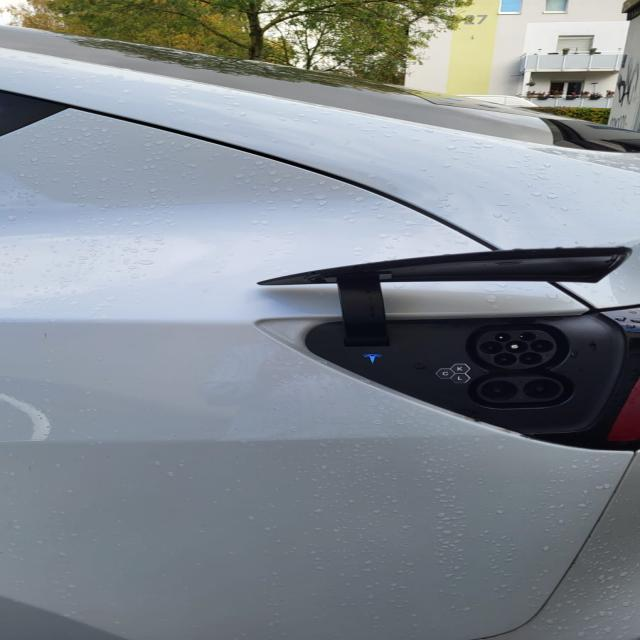inlet: (477, 330, 556, 369)
inlet-above-left: (495, 333, 511, 341)
inlet-above-right: (519, 332, 536, 341)
inlet-below-left: (493, 353, 517, 366)
inlet-below-right: (519, 352, 542, 365)
inlet-circle: (505, 340, 528, 353)
inlet-circle-left: (480, 341, 503, 354)
inlet-circle-right: (531, 339, 553, 353)
inlet-minus: (523, 379, 560, 399)
inlet-plus: (480, 380, 518, 400)
